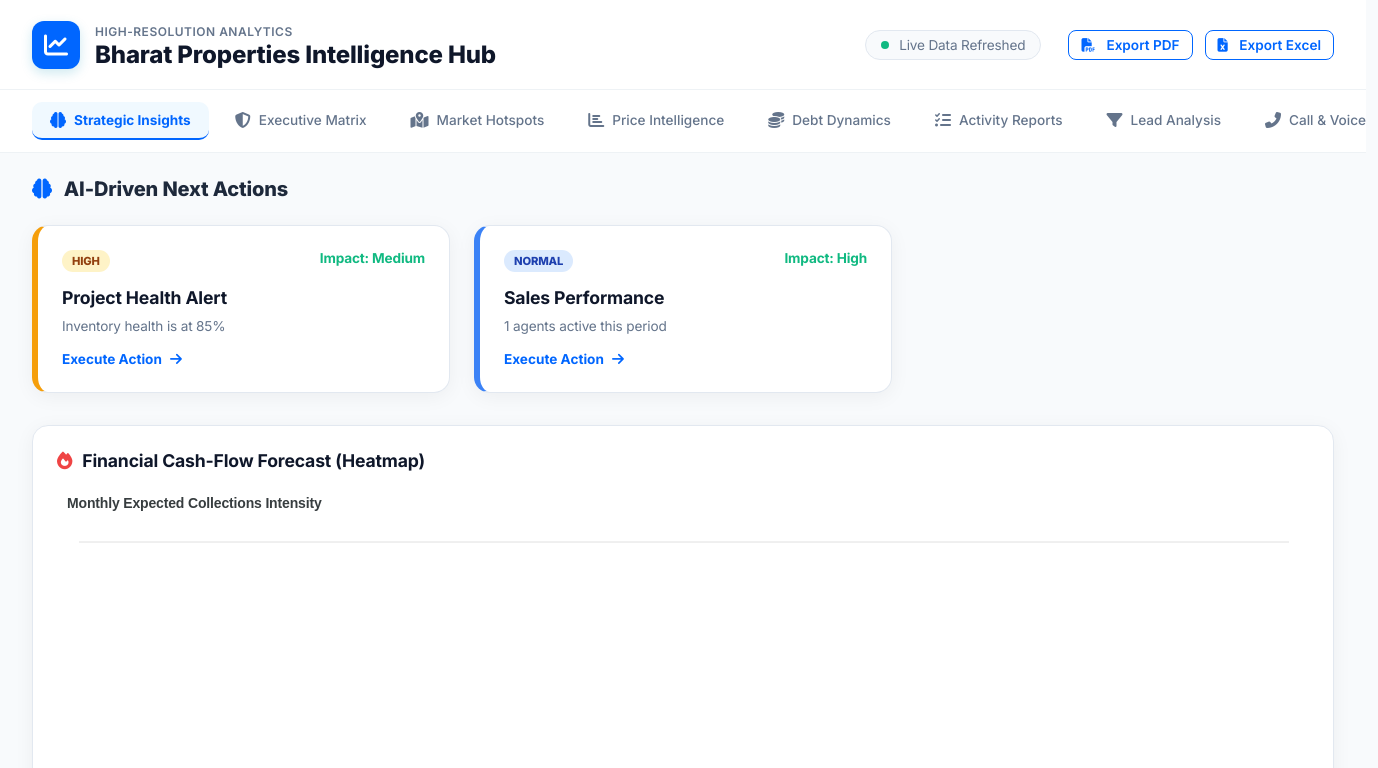
Test: ReportsPage with DataTable (Phase 10.21) › renders emptyMessage in DataTable when a market category has no records
Click the button "Price Intelligence" at (656, 121), box [570,102,742,140]
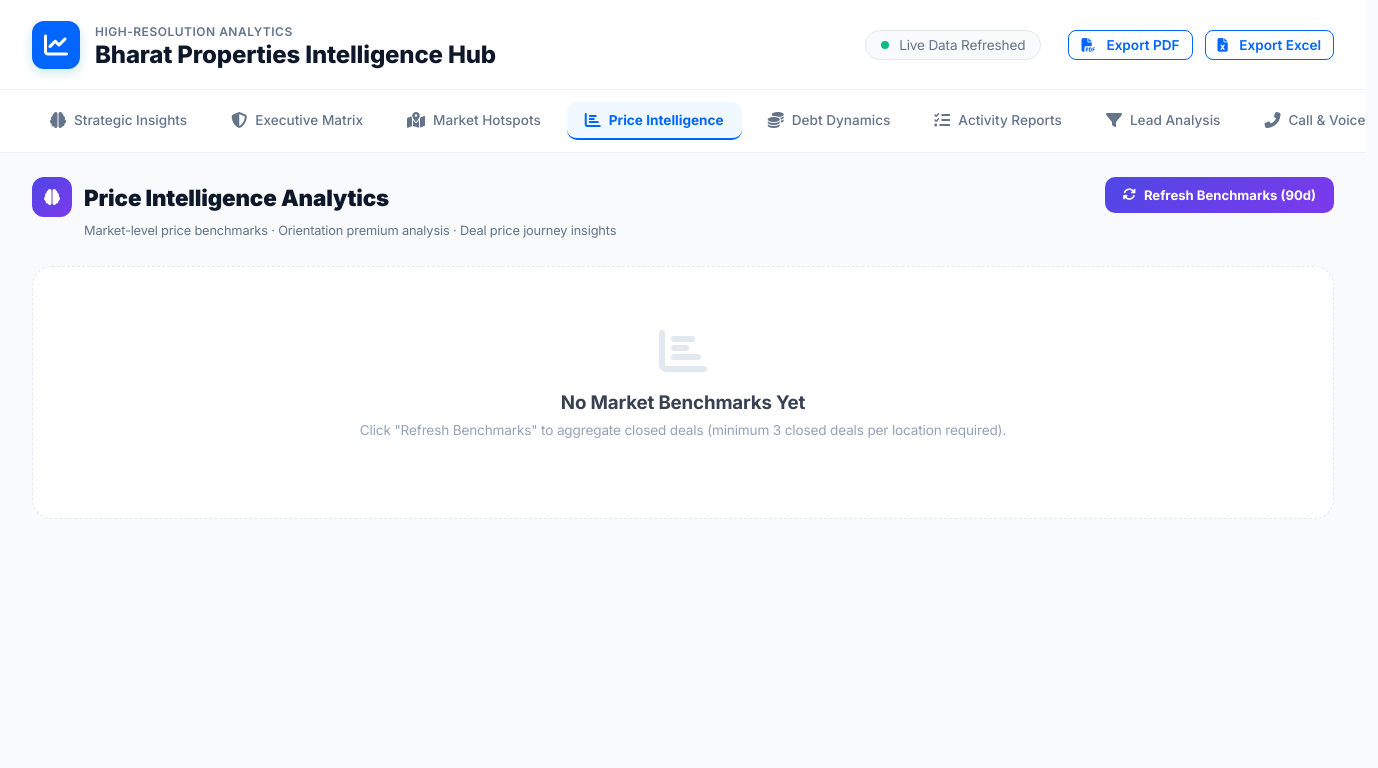
Expected: the heading "No Market Benchmarks Yet" is shown, [561,391,805,414]
